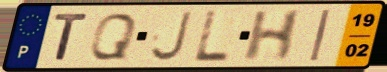H: (240, 8, 305, 63)
I: (308, 8, 333, 63)
J: (147, 9, 194, 63)
L: (191, 8, 232, 63)
Q: (87, 12, 140, 62)
T: (52, 12, 92, 62)
